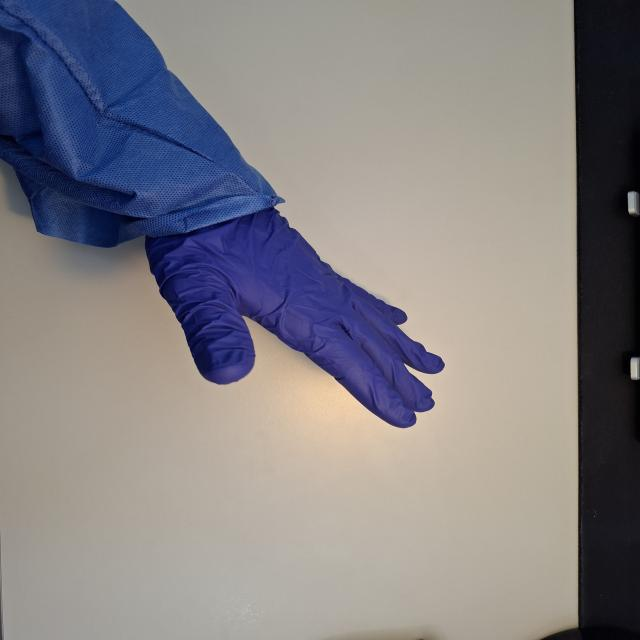glove_on: (138, 195, 449, 430)
